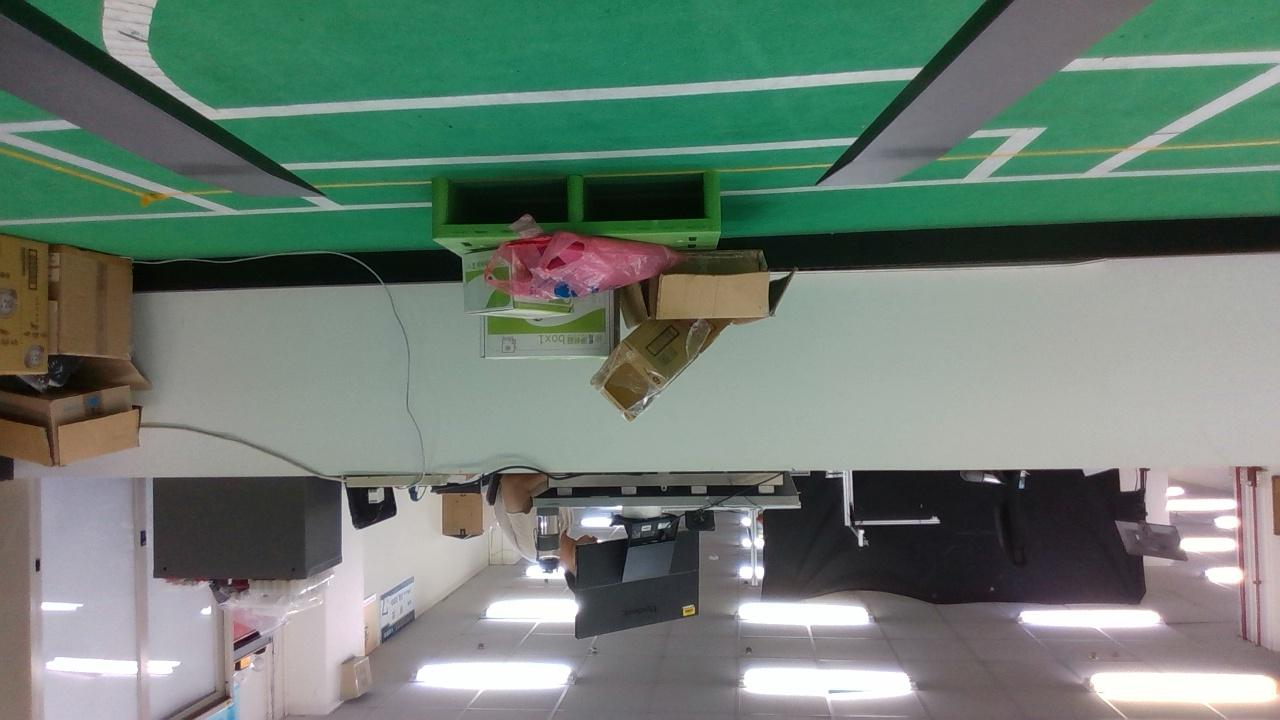Pallet: (431, 176, 722, 243)
